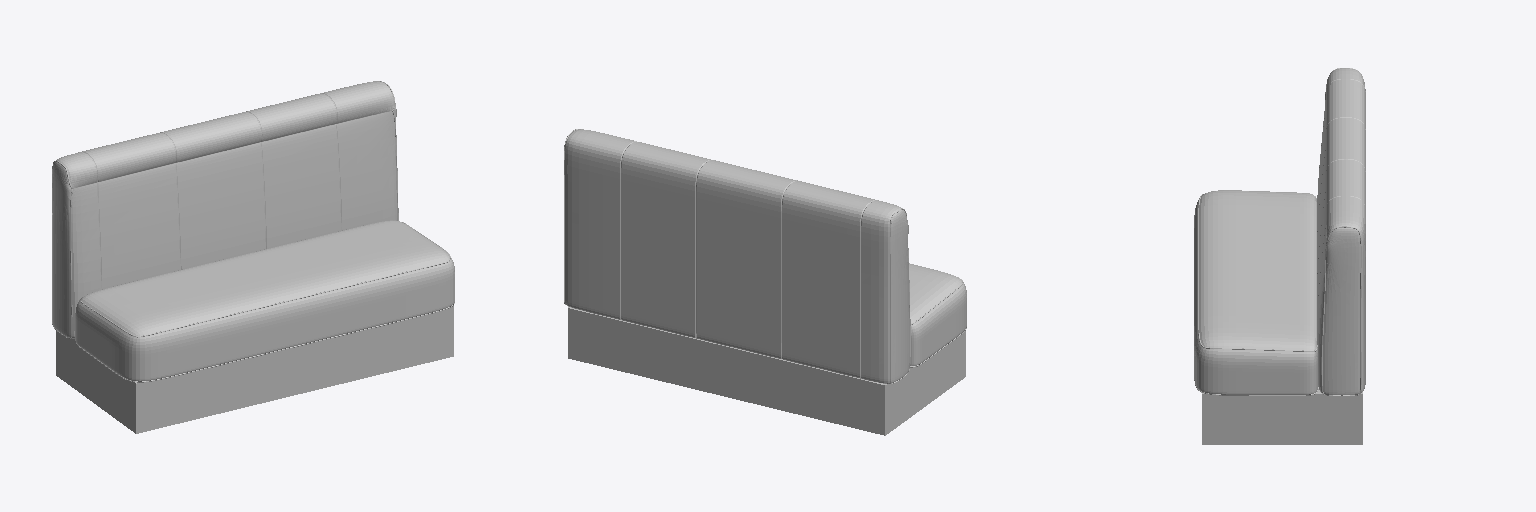
The model's file is BoothStraight.obj.
3 views of the same model, side by side, from view 1: azimuth 30°, elevation 25°; view 2: azimuth 150°, elevation 25°; view 3: azimuth 270°, elevation 25° (orthographic).
Parts seen in each view (by area): view 1: couch; view 2: couch; view 3: couch.
Boxes of the visible parts, <box> form: couch: <box>52,81,454,433</box>; couch: <box>564,129,966,435</box>; couch: <box>1194,68,1365,444</box>.
Size of the model in its own units: 1.65 by 1.05 by 0.7449.